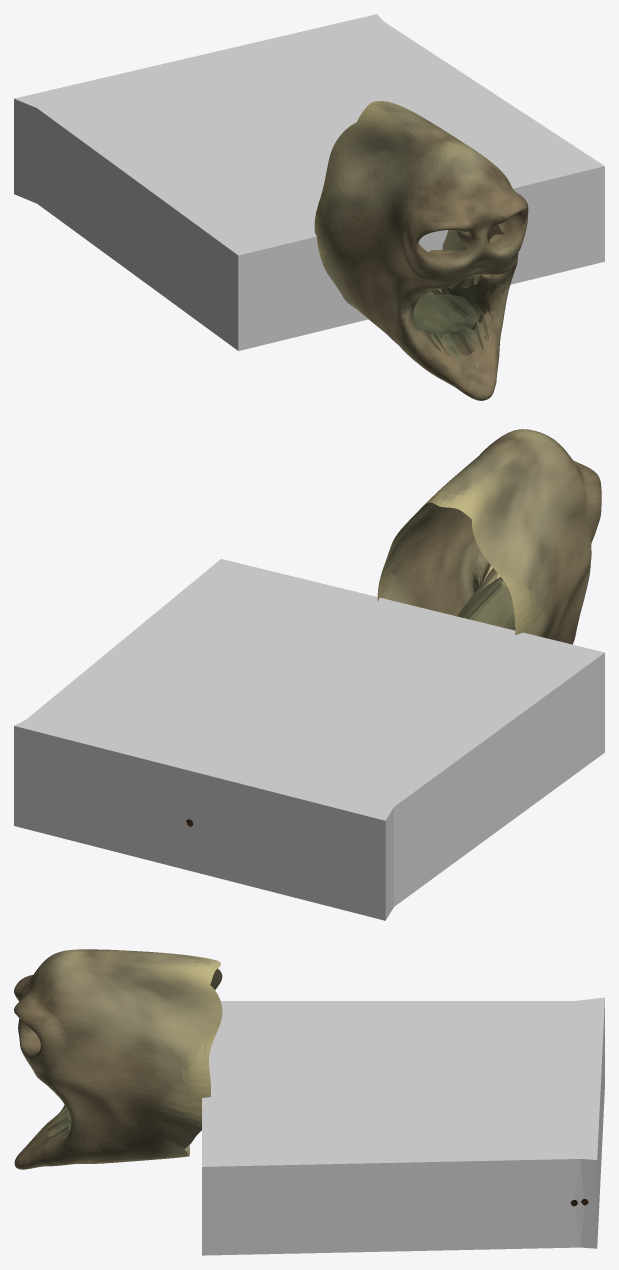
File: Skull_cave.fbx
3 views of the same model, one above another, from view 1: azimuth 30°, elevation 25°; view 2: azimuth 150°, elevation 25°; view 3: azimuth 270°, elevation 25° (orthographic). The views are drawn at different scales.
Parts seen in each view (by area): view 1: Cave, Skull Decimate.001; view 2: Cave, Skull Decimate.001; view 3: Cave, Skull Decimate.001.
Boxes of the visible parts, box(x1,y1,x2,y2) form: Cave: box(14, 14, 604, 350); Skull Decimate.001: box(314, 101, 528, 400); Cave: box(14, 559, 604, 920); Skull Decimate.001: box(377, 429, 601, 644); Cave: box(202, 997, 604, 1255); Skull Decimate.001: box(14, 949, 222, 1169).
Size of the model in its own units: 20404 by 12119 by 30083.
